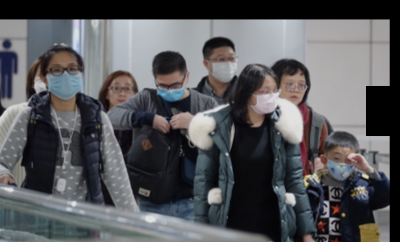with_mask: (45, 60, 83, 100), (209, 50, 238, 83), (323, 150, 354, 180), (251, 85, 279, 114), (155, 78, 185, 102)
without_mask: (281, 77, 307, 105), (108, 80, 135, 106)
